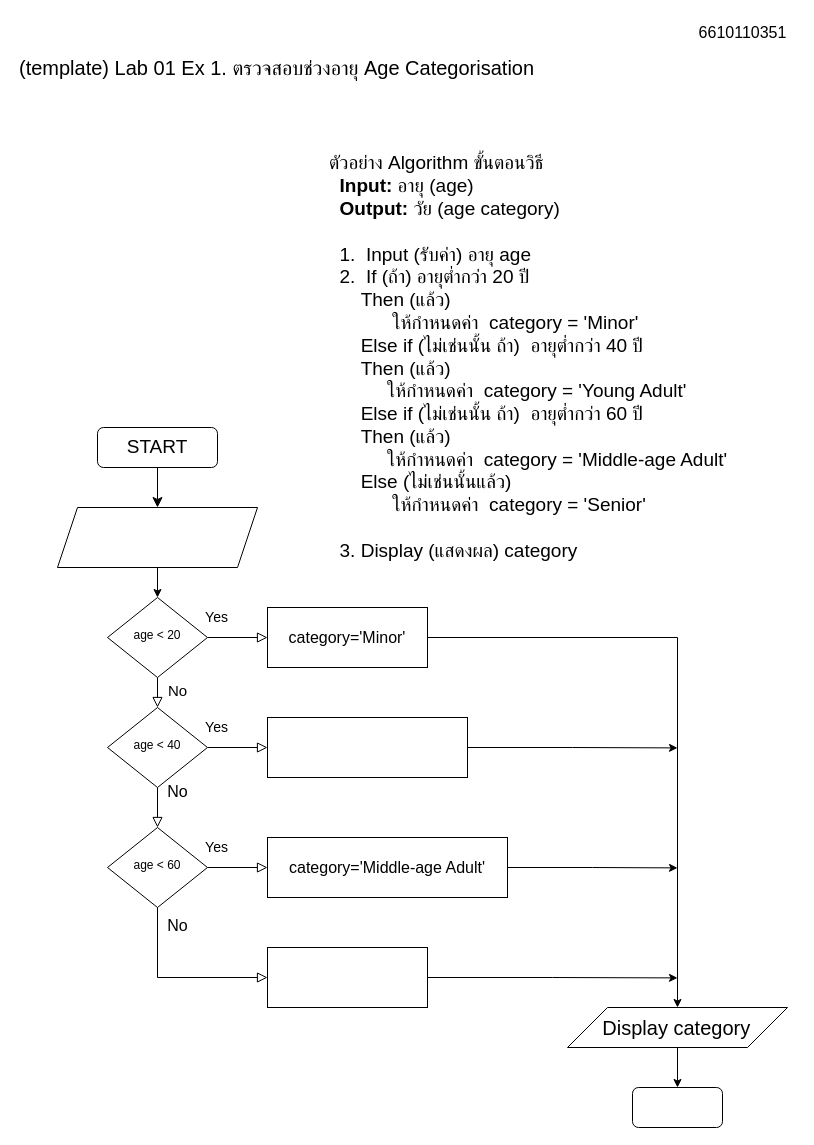
Image size: 814x1145. Some labels were removed from this diagram. Here are the shapes that lost their labels. From the top down, the centre of each, then its label:
At point 157,537: "รับค่าอายุ age".
At point 367,747: "category='Young Adult'".
At point 347,977: "category='Senior'".
At point 677,1107: "END".
